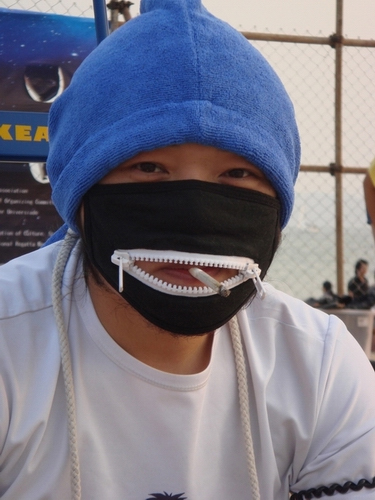face_mask: (97, 98, 271, 333)
